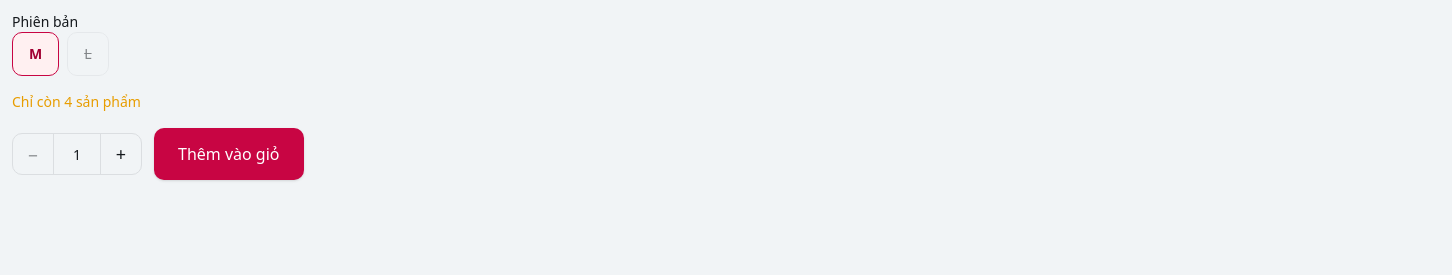
Scenario: <AddToCart /> › adds the selected variant and quantity to the cart
Click the button named "Tăng số lượng": (121, 154) x1=101 y1=134 x2=141 y2=174
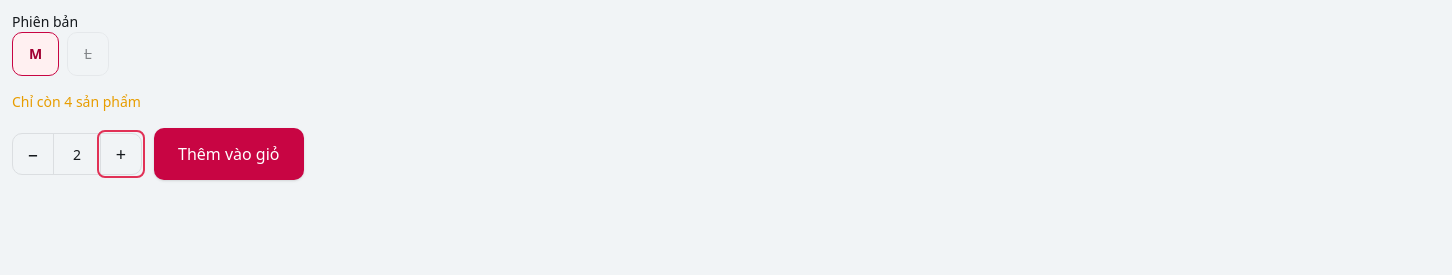
Click the button "Thêm vào giỏ": (229, 154) x1=154 y1=128 x2=304 y2=180
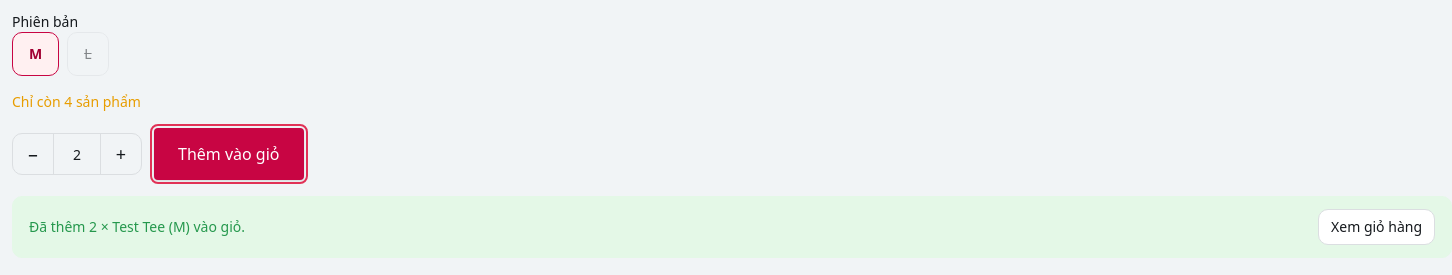
expect the text "Đã thêm 2 × Test Tee (M) vào giỏ." is shown: met, box x1=29 y1=217 x2=245 y2=237
